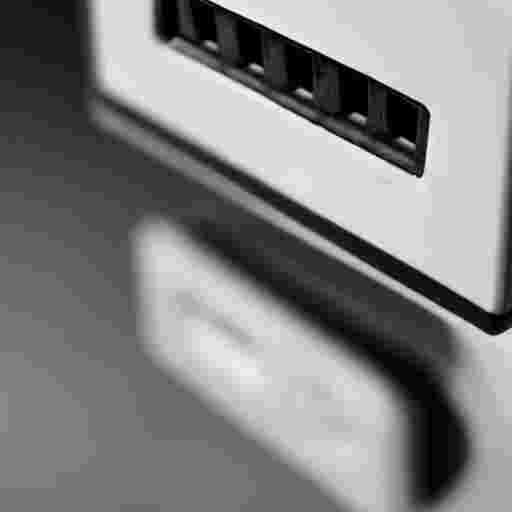power outlet: (96, 0, 428, 259), (336, 228, 510, 333)
